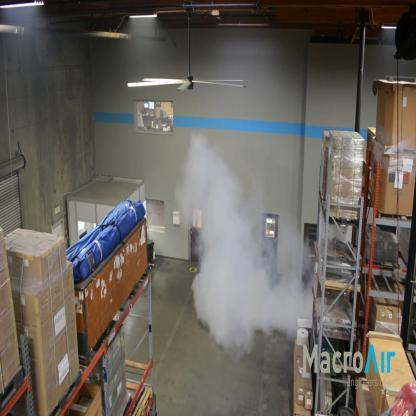smoke: (172, 129, 295, 359)
